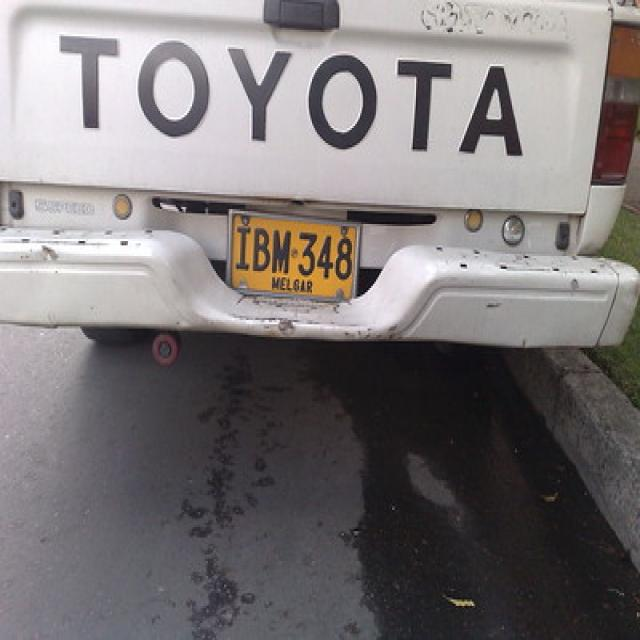placa_carro: (218, 191, 369, 330)
